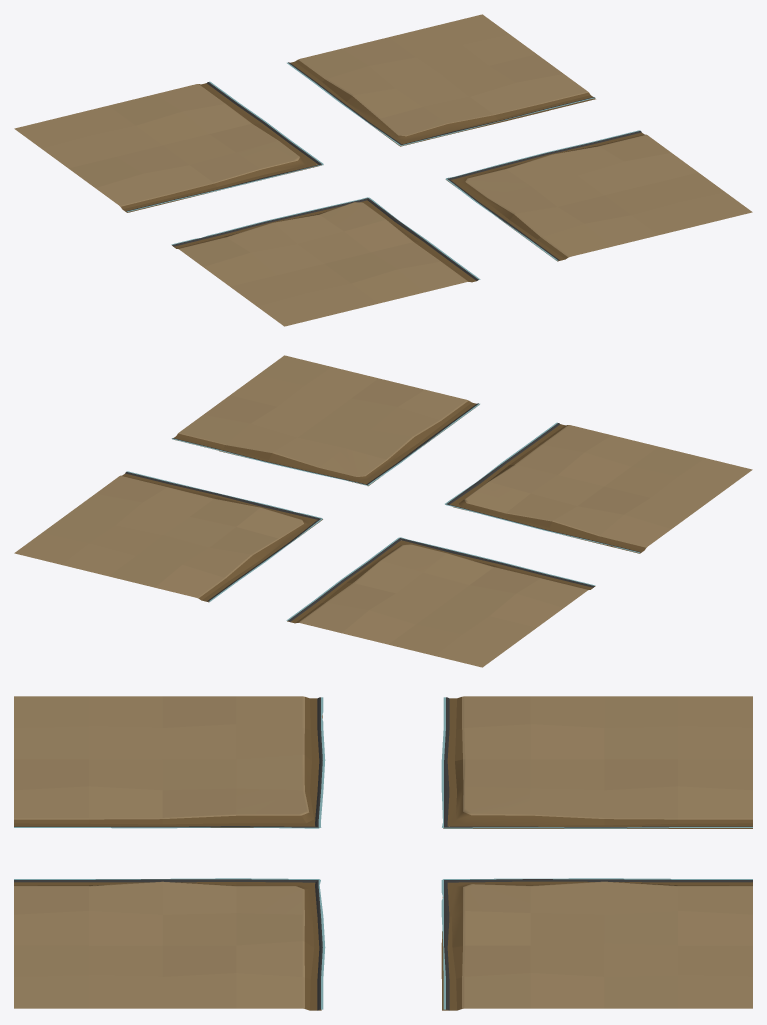
The model's file is model_road_dirtcrossroad_1_.fbx.
The picture shows the model from 3 angles, top to bottom: view 1: azimuth 30°, elevation 25°; view 2: azimuth 150°, elevation 25°; view 3: azimuth 270°, elevation 25°; orthographic projection. The views are drawn at different scales.
Visible parts, largest first — view 1: model_road_dirt_crossroad_01; view 2: model_road_dirt_crossroad_01; view 3: model_road_dirt_crossroad_01.
Part boxes in pixels (x1,y1,x2,y2): model_road_dirt_crossroad_01: (14,14,752,326); model_road_dirt_crossroad_01: (14,355,752,667); model_road_dirt_crossroad_01: (14,696,752,1010).
Size of the model in its own units: 0.6161 by 0.6161 by 0.00621.
